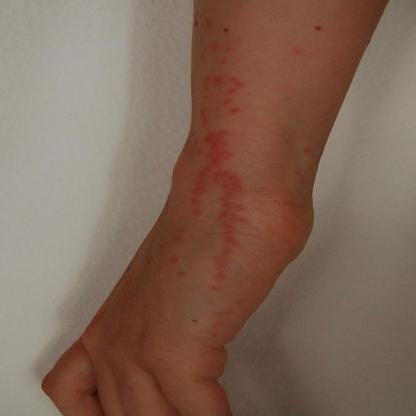Bed Bug: (190, 131, 248, 294), (198, 71, 253, 128), (162, 219, 190, 282), (202, 300, 242, 344), (198, 40, 243, 66), (192, 6, 218, 32), (288, 167, 308, 192), (290, 144, 316, 156), (288, 48, 312, 60)
